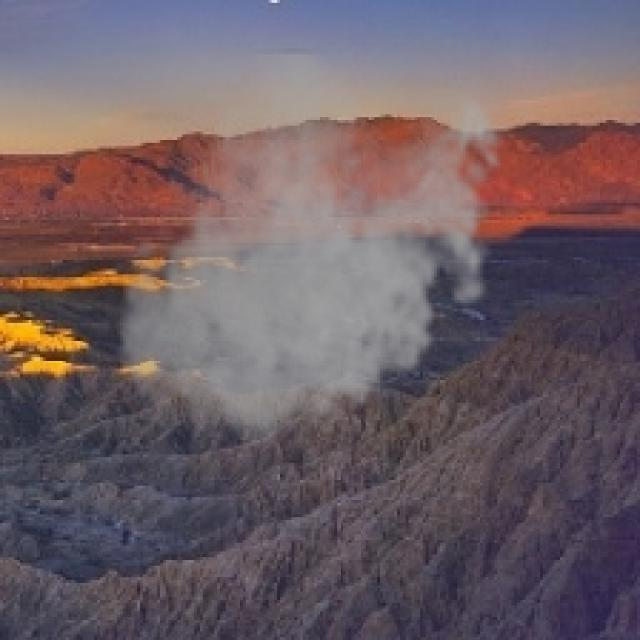smoke: (109, 48, 514, 463)
